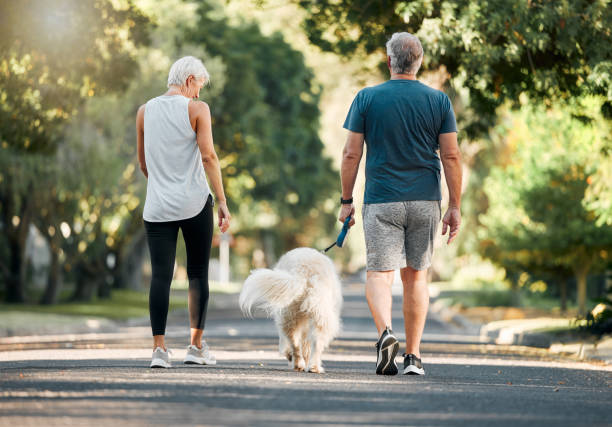dog: (233, 233, 354, 385)
person: (337, 26, 485, 381), (130, 47, 235, 380)
